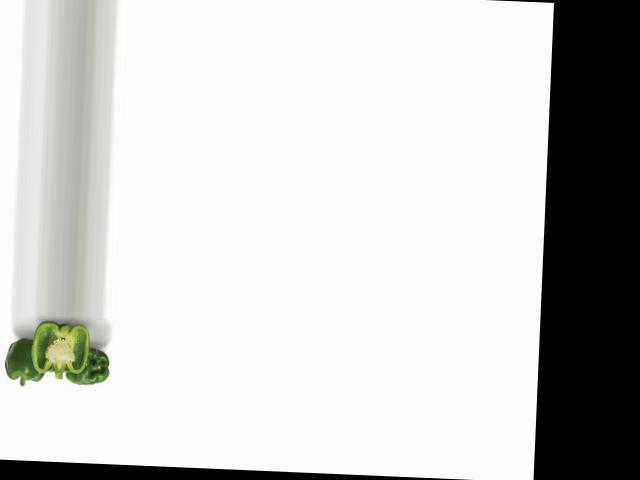bell_pepper: (60, 341, 114, 390)
